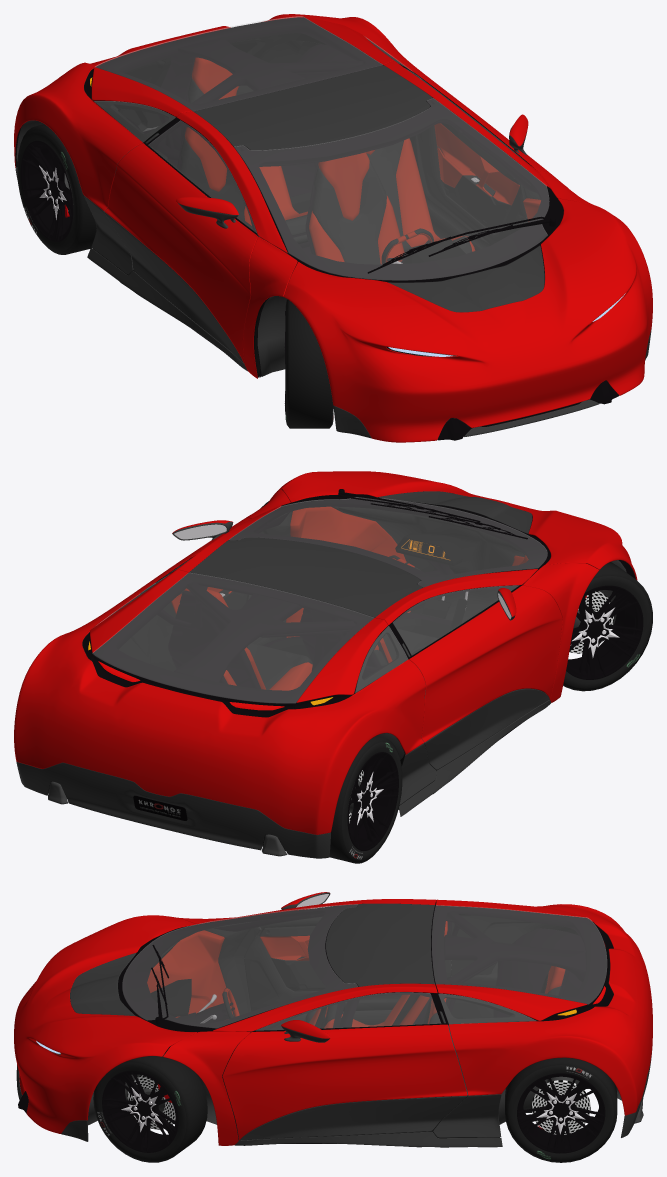
File: car-concept.glb
3 renders of one model, top to bottom at view 1: azimuth 30°, elevation 25°; view 2: azimuth 150°, elevation 25°; view 3: azimuth 270°, elevation 25°, orthographic. The views are drawn at different scales.
Visible parts, largest first — view 1: BodyHood, BodyWindshield, BodyRearwindow, BodyDoorRColor1, BodyRearPanelsColor1, BodyRoofPanel, BodyWindshieldGasket, InteriorSeatsColor1, InteriorSeatsColor2, BodyPillars, InteriorPillar, InteriorRearHatch (+21 smaller); view 2: BodyRearPanelsColor1, BodyRearwindow, BodyWindshield, BodyDoorRColor1, BodyPanelsColor2, BodyRoofPanel, BodyHood, InteriorRearHatch, BodyPillars, InteriorPillar, BodyWindshieldGasket, InteriorDashMid (+22 smaller); view 3: BodyRearPanelsColor1, BodyWindshield, BodyDoorLColor1, BodyHood, BodyRearwindow, BodyRoofPanel, BodyPillars, BodyWindshieldGasket, BodyDoorLColor2, BodyPanelsColor2, WheelFrontL, InteriorRearHatch (+25 smaller).
Boxes of the visible parts, bbox=[...] form: BodyHood: bbox=[283, 198, 652, 442]; BodyWindshield: bbox=[234, 98, 549, 280]; BodyRearwindow: bbox=[95, 16, 382, 110]; BodyDoorRColor1: bbox=[104, 143, 257, 362]; BodyRearPanelsColor1: bbox=[14, 14, 428, 210]; BodyRoofPanel: bbox=[193, 65, 432, 150]; BodyWindshieldGasket: bbox=[234, 99, 563, 282]; InteriorSeatsColor1: bbox=[185, 57, 475, 264]; InteriorSeatsColor2: bbox=[180, 78, 472, 264]; BodyPillars: bbox=[176, 61, 598, 378]; InteriorPillar: bbox=[158, 37, 434, 168]; InteriorRearHatch: bbox=[93, 17, 383, 117]; BodyRearPanelsColor1: bbox=[14, 569, 425, 834]; BodyRearwindow: bbox=[92, 573, 373, 703]; BodyWindshield: bbox=[229, 497, 547, 587]; BodyDoorRColor1: bbox=[409, 585, 562, 742]; BodyPanelsColor2: bbox=[16, 700, 550, 858]; BodyRoofPanel: bbox=[189, 537, 422, 617]; BodyHood: bbox=[279, 471, 637, 580]; InteriorRearHatch: bbox=[93, 573, 386, 707]; BodyPillars: bbox=[175, 489, 599, 702]; InteriorPillar: bbox=[174, 574, 417, 682]; BodyWindshieldGasket: bbox=[230, 497, 550, 587]; InteriorDashMid: bbox=[331, 502, 528, 622]; BodyRearPanelsColor1: bbox=[436, 899, 652, 1115]; BodyWindshield: bbox=[122, 904, 357, 1028]; BodyDoorLColor1: bbox=[222, 1024, 467, 1139]; BodyHood: bbox=[14, 915, 196, 1133]; BodyRearwindow: bbox=[432, 905, 606, 1003]; BodyRoofPanel: bbox=[326, 903, 434, 986]; BodyPillars: bbox=[163, 899, 437, 1145]; BodyWindshieldGasket: bbox=[118, 905, 357, 1032]; BodyDoorLColor2: bbox=[240, 1096, 467, 1140]; BodyPanelsColor2: bbox=[16, 1050, 652, 1147]; WheelFrontL: bbox=[93, 1054, 207, 1162]; InteriorRearHatch: bbox=[431, 905, 606, 1020].
Bounding box in the file's own units: 2.54 × 1.15 × 4.36.
Materials: 23 (6 with a texture image).
